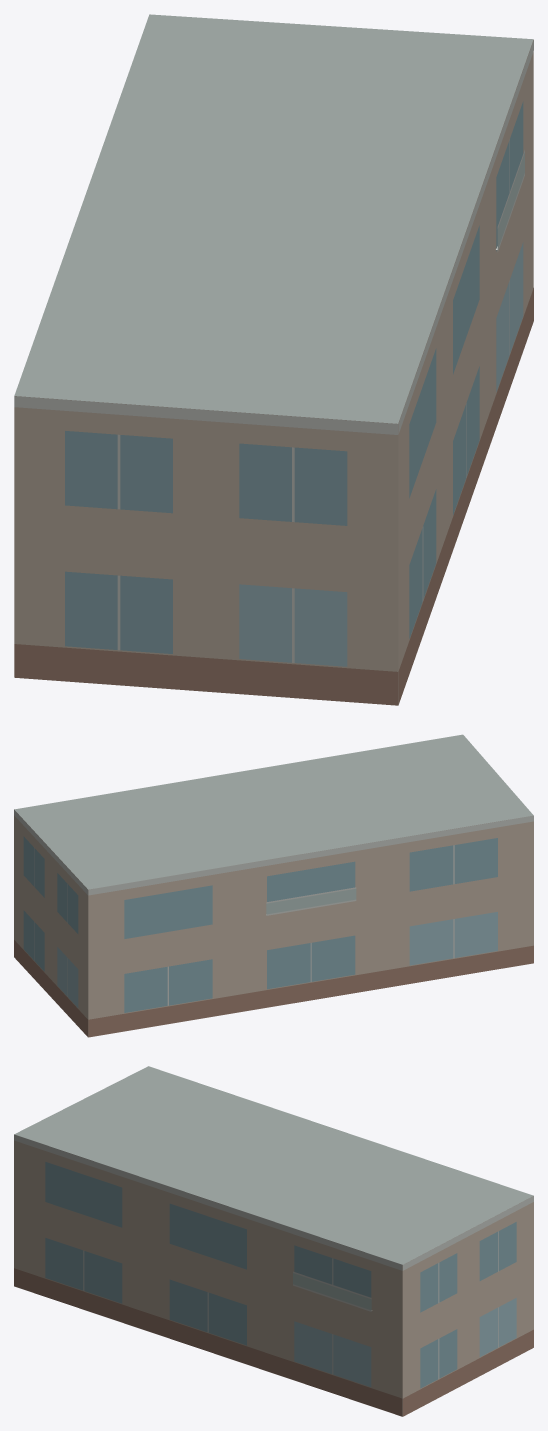
The model's file is survey-upis-32803890.glb.
3 views of the same model, one above another, from view 1: azimuth 30°, elevation 25°; view 2: azimuth 150°, elevation 25°; view 3: azimuth 270°, elevation 25° (orthographic). The views are drawn at different scales.
Visible parts, largest first — view 1: survey-upis-32803890.tmp; view 2: survey-upis-32803890.tmp; view 3: survey-upis-32803890.tmp.
Part boxes in pixels (x1,y1,x2,y2): survey-upis-32803890.tmp: (14, 14, 533, 705); survey-upis-32803890.tmp: (14, 734, 533, 1037); survey-upis-32803890.tmp: (14, 1066, 533, 1416).
Bounding box in the file's own units: 17.12 × 6.1 × 18.92.
